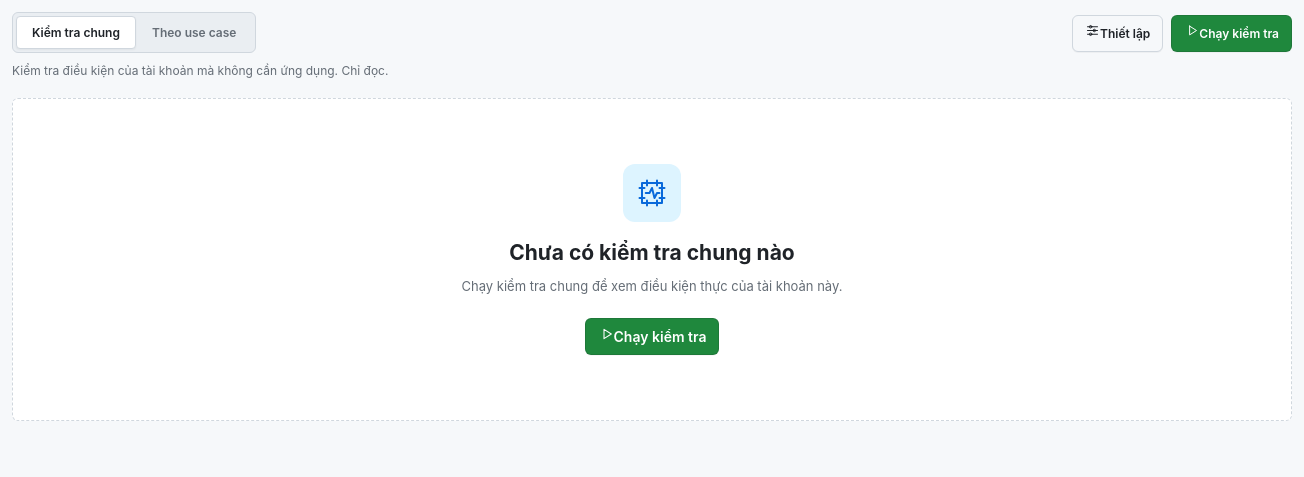
Test: account diagnostics tab › never resubmits after a lost start response and reconciles by reading
Expected: the heading "Chưa có kiểm tra chung nào" is shown, top-left (509, 240), bottom-right (795, 265)
Click the 1st button "Chạy kiểm tra" at point(1232, 34), box top-left (1171, 15), bottom-right (1292, 52)
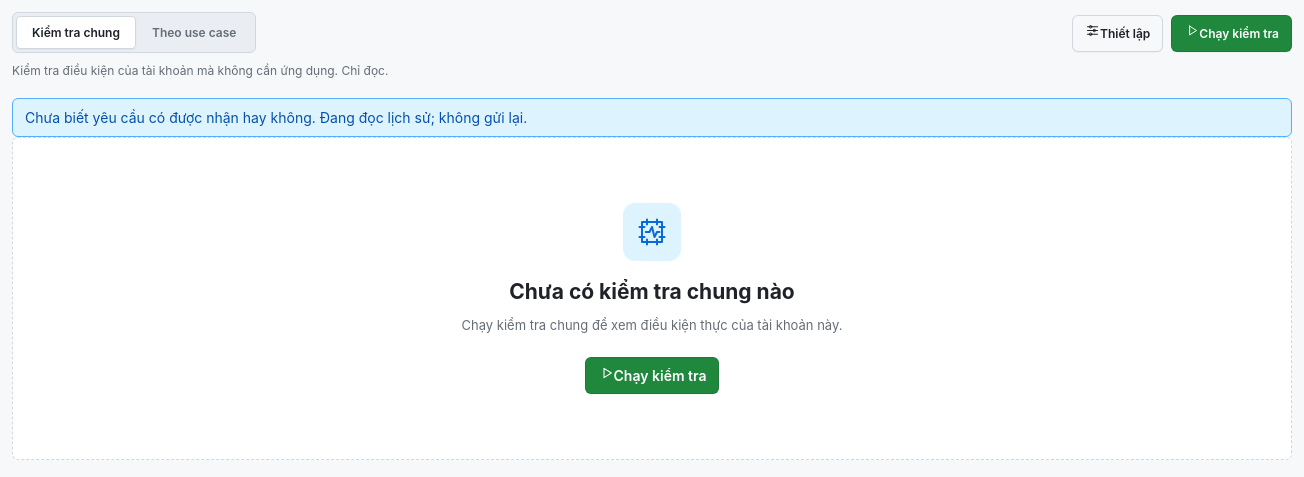
Expected: the text "Chưa biết yêu cầu có được nhận hay không. Đang đọc lịch sử; không gửi lại." is shown, top-left (12, 98), bottom-right (1292, 137)
